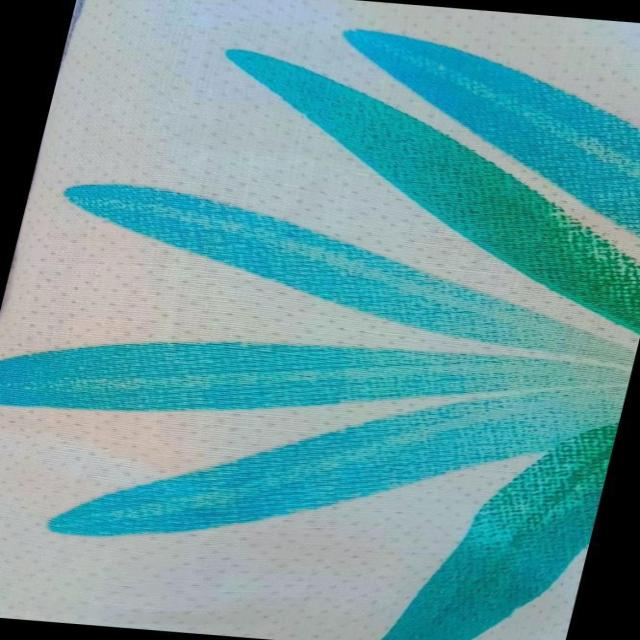color issues: (391, 292, 629, 457), (84, 189, 396, 284), (83, 326, 386, 423), (456, 170, 640, 288), (257, 70, 409, 148)
